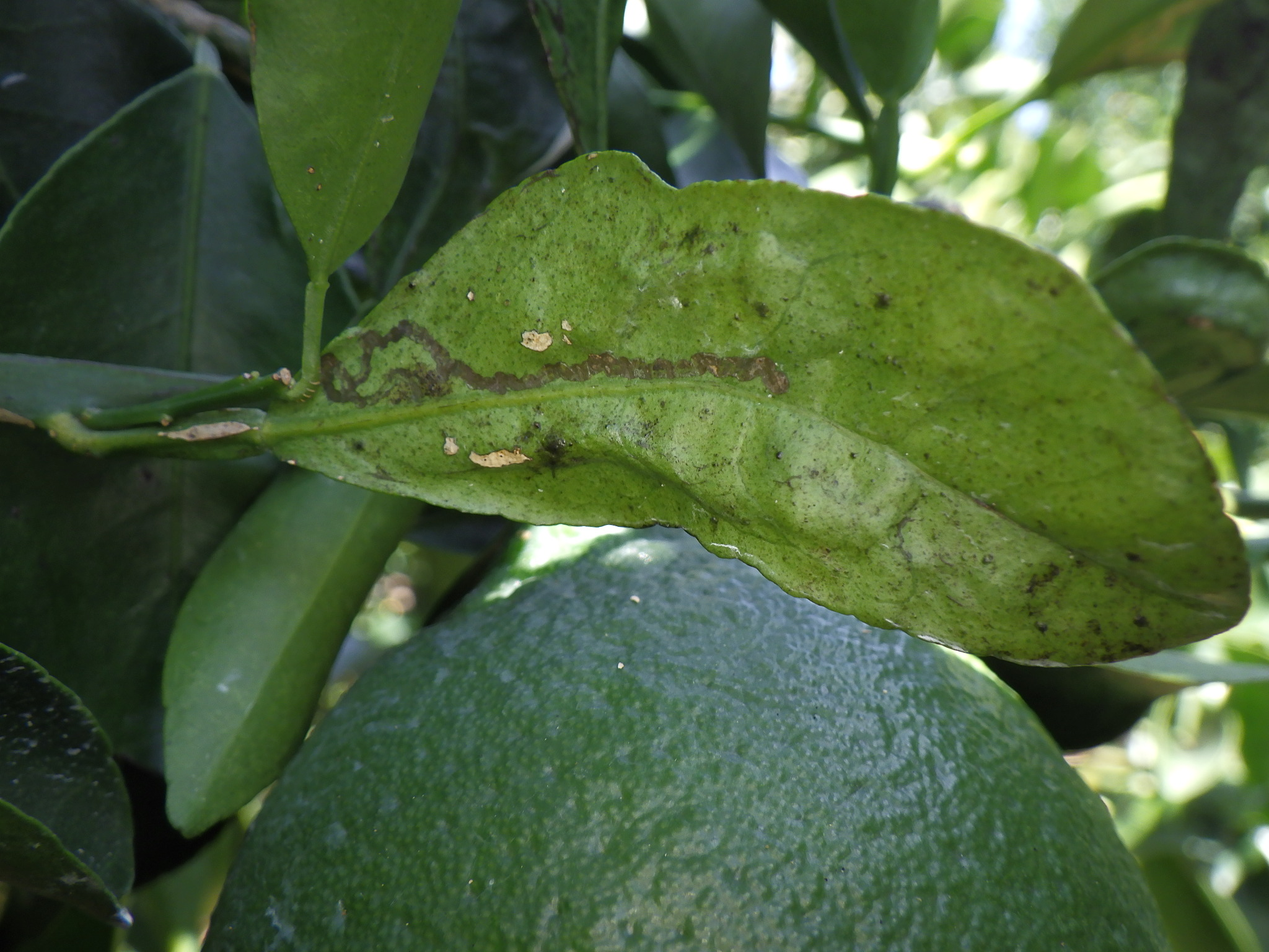Thrips_Damage: (320, 320, 788, 407)
